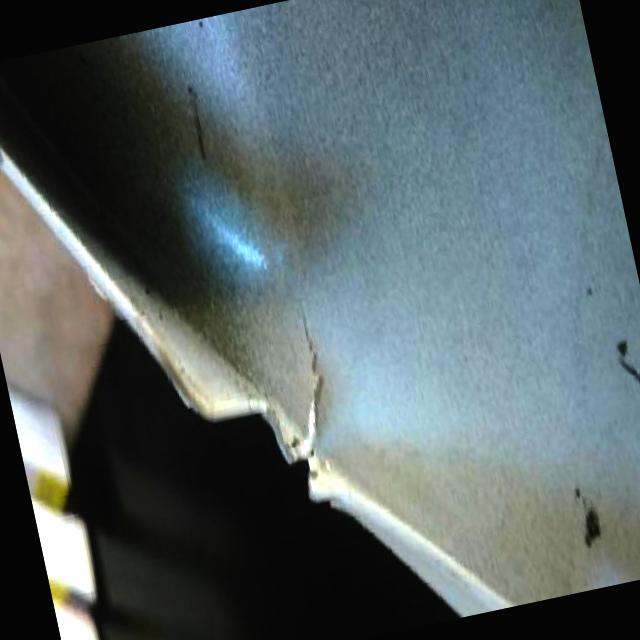crack: (282, 307, 332, 448)
